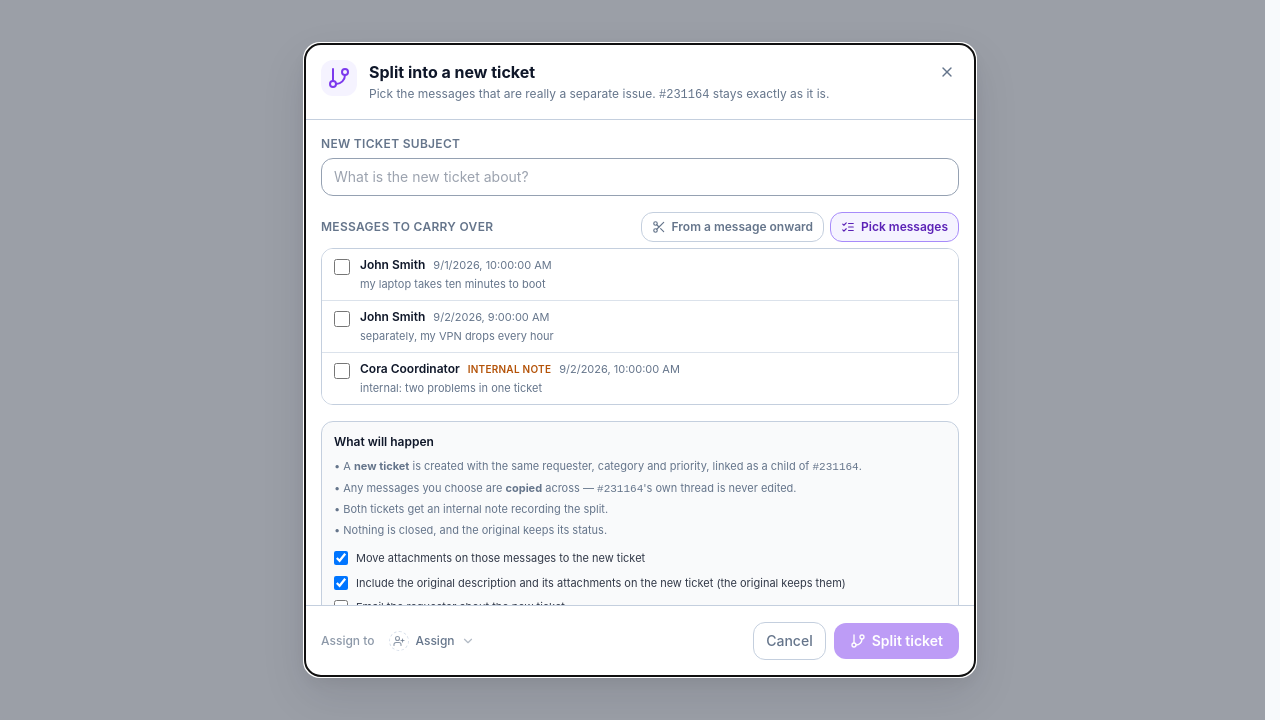
Test case: SplitTicketModal (QA 09-08) › submit is blocked until there is a subject
The image size is (1280, 720).
Expected: the list with test id "split-entries" is shown, x1=321 y1=248 x2=959 y2=405
Expected: the button with test id "split-submit" is disabled, x1=834 y1=623 x2=959 y2=659
Type "VPN drops" into the field labelled "New ticket subject" at (640,177), box x1=321 y1=158 x2=959 y2=196
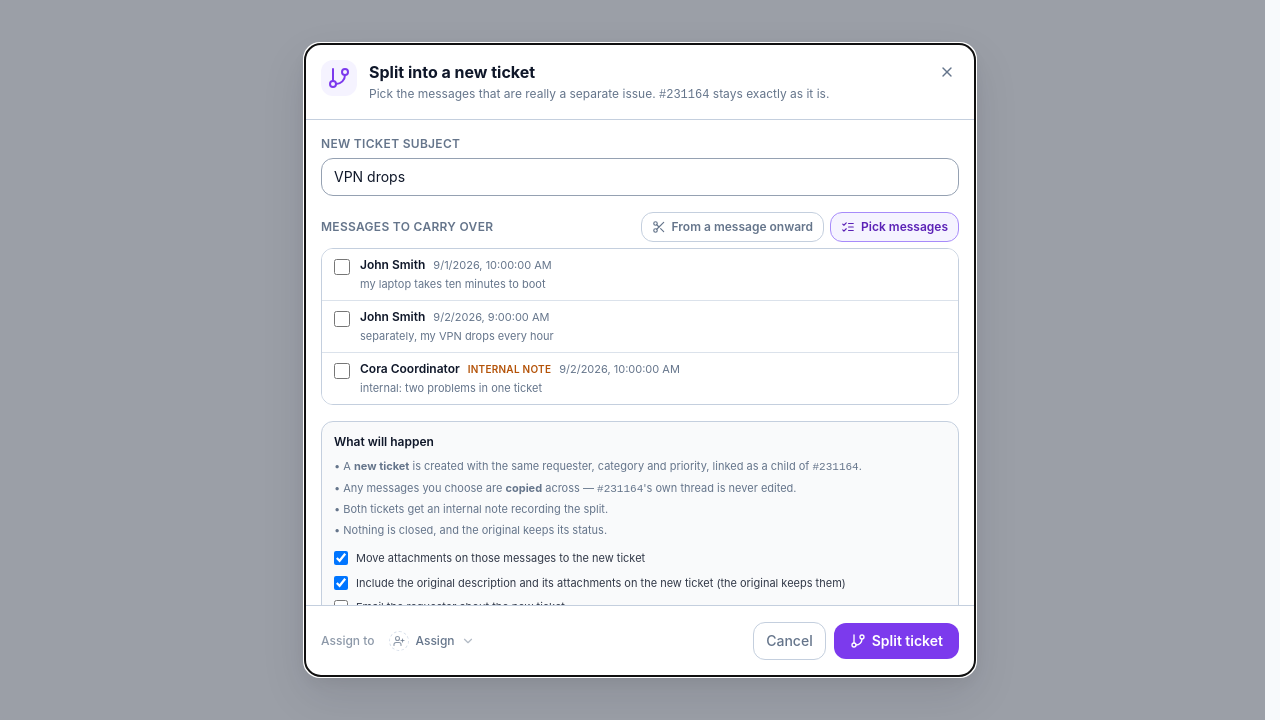
Now the button with test id "split-submit" is enabled, box x1=834 y1=623 x2=959 y2=659
